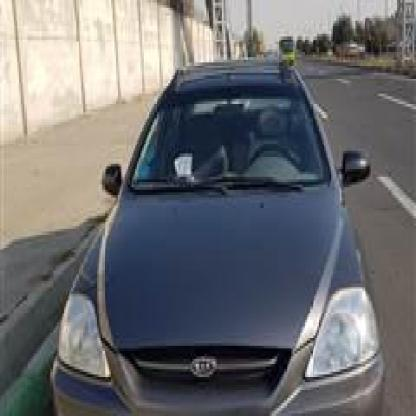Bus: (277, 36, 294, 65)
Car: (50, 65, 387, 416)
